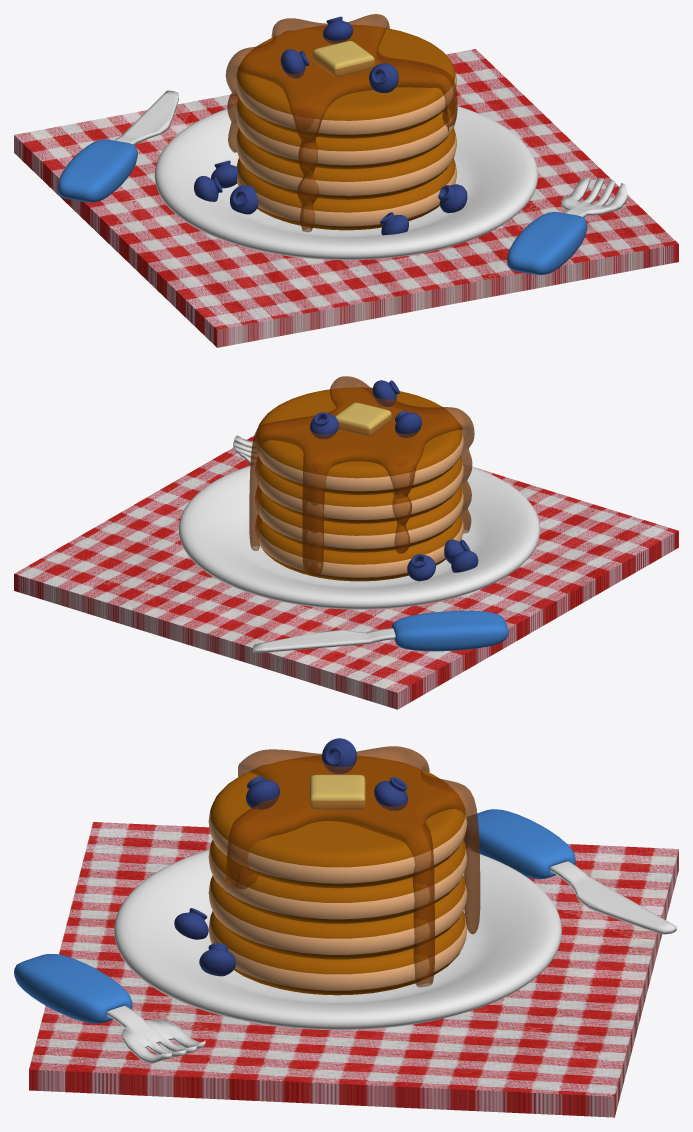
File: pancake.glb
3 renders of one model, top to bottom at view 1: azimuth 30°, elevation 25°; view 2: azimuth 150°, elevation 25°; view 3: azimuth 270°, elevation 25°, orthographic. The views are drawn at different scales.
Parts seen in each view (by area): view 1: Plane.002, Circle.001, Circle, Plane, Cube.004, Cube.002, Cube.001, Cube, Cube.003, Sphere.006, Sphere.003, Sphere.002 (+5 smaller); view 2: Plane.002, Circle.001, Circle, Plane, Cube.004, Cube.003, Cube, Sphere, Sphere.005, Sphere.007, Sphere.006, Sphere.004; view 3: Plane.002, Circle.001, Circle, Plane, Cube.002, Cube.004, Cube.003, Cube.001, Cube, Sphere.007, Sphere.003, Sphere.005 (+2 smaller).
Part boxes in pixels (x1=…): Plane.002: x1=14, y1=49, x2=678, y2=347; Circle.001: x1=235, y1=25, x2=456, y2=230; Circle: x1=154, y1=106, x2=537, y2=260; Plane: x1=225, y1=14, x2=457, y2=232; Cube.004: x1=57, y1=139, x2=137, y2=202; Cube.002: x1=507, y1=212, x2=587, y2=274; Cube.001: x1=561, y1=177, x2=627, y2=217; Cube: x1=312, y1=41, x2=374, y2=76; Cube.003: x1=114, y1=90, x2=178, y2=145; Sphere.006: x1=369, y1=63, x2=398, y2=92; Sphere.003: x1=438, y1=184, x2=467, y2=213; Sphere.002: x1=230, y1=185, x2=258, y2=214; Plane.002: x1=14, y1=435, x2=678, y2=709; Circle.001: x1=255, y1=387, x2=463, y2=581; Circle: x1=178, y1=464, x2=540, y2=609; Plane: x1=249, y1=376, x2=474, y2=576; Cube.004: x1=391, y1=610, x2=508, y2=651; Cube.003: x1=253, y1=628, x2=395, y2=653; Cube: x1=335, y1=402, x2=391, y2=436; Sphere: x1=407, y1=554, x2=435, y2=581; Sphere.005: x1=310, y1=412, x2=338, y2=439; Sphere.007: x1=395, y1=410, x2=421, y2=438; Sphere.006: x1=372, y1=380, x2=399, y2=406; Sphere.004: x1=451, y1=549, x2=478, y2=572; Plane.002: x1=29, y1=822, x2=678, y2=1117; Circle.001: x1=208, y1=755, x2=467, y2=995; Circle: x1=114, y1=849, x2=561, y2=1030; Plane: x1=224, y1=746, x2=480, y2=987; Cube.002: x1=14, y1=954, x2=132, y2=1023; Cube.004: x1=463, y1=809, x2=575, y2=879; Cube.003: x1=550, y1=861, x2=676, y2=934; Cube.001: x1=107, y1=1005, x2=205, y2=1063; Cube: x1=309, y1=774, x2=365, y2=810; Sphere.007: x1=322, y1=738, x2=356, y2=774; Sphere.003: x1=199, y1=943, x2=235, y2=976; Sphere.005: x1=374, y1=777, x2=407, y2=810.
Bounding box in the file's own units: 0.2228 × 0.0782 × 0.2279.
8 materials, 1 textured.
